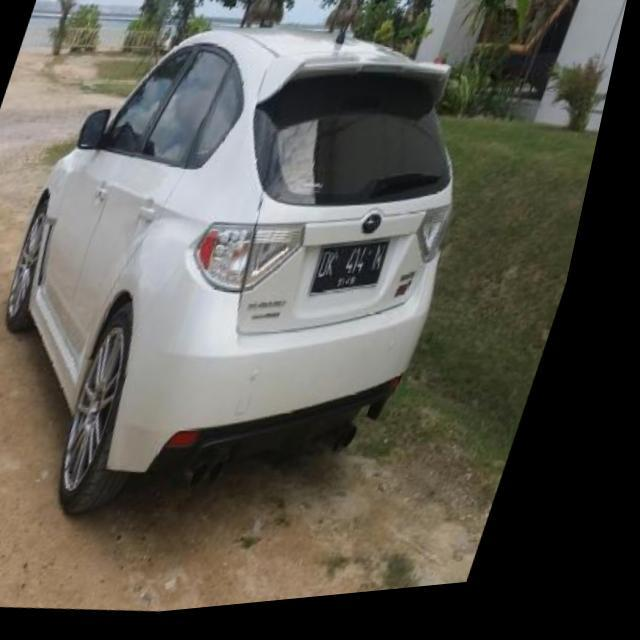license_plate: (319, 240, 406, 312)
